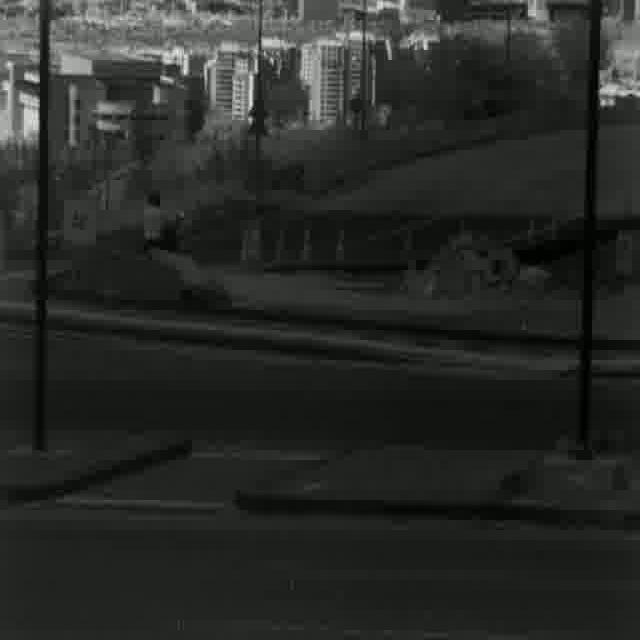Motorcycle: (140, 190, 189, 255)
